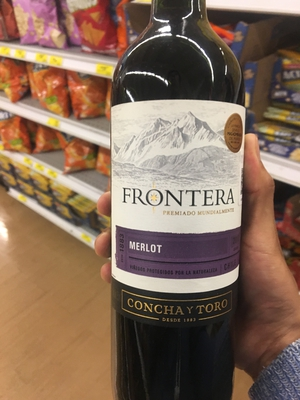frontera merlot: (100, 23, 263, 399)
